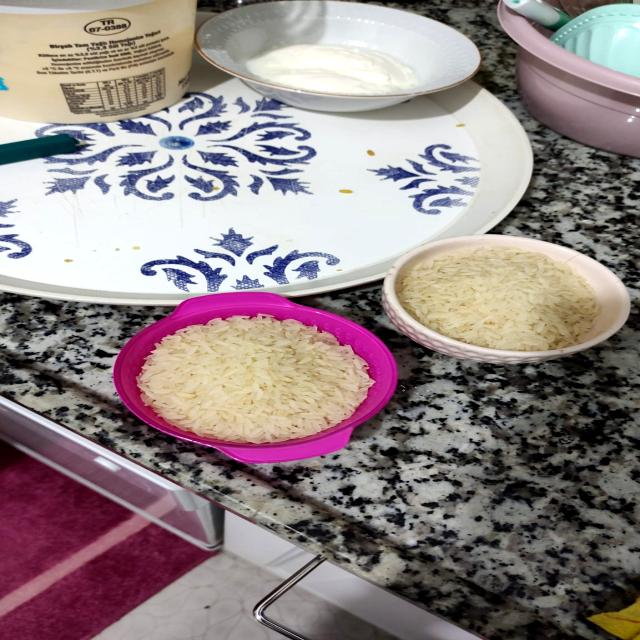rice: (117, 290, 392, 460), (381, 236, 640, 364)
yogurt: (215, 6, 494, 110)
